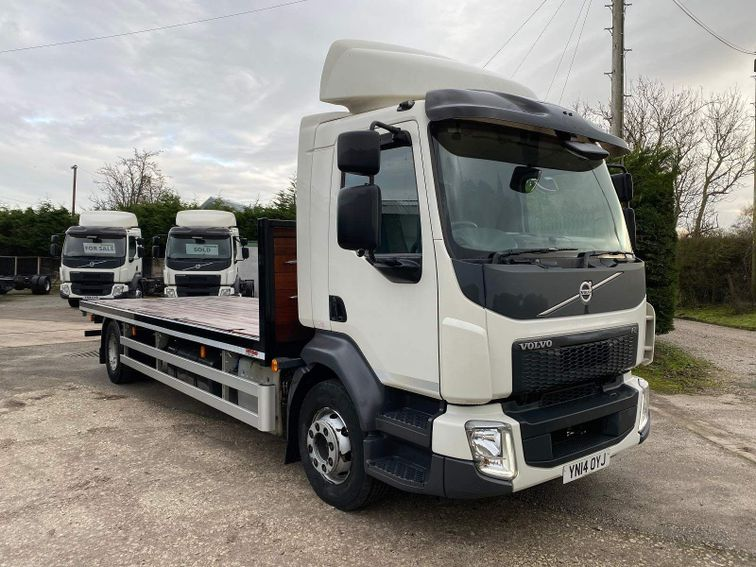Semi: (79, 39, 657, 507), (162, 208, 252, 297), (60, 211, 143, 306)
